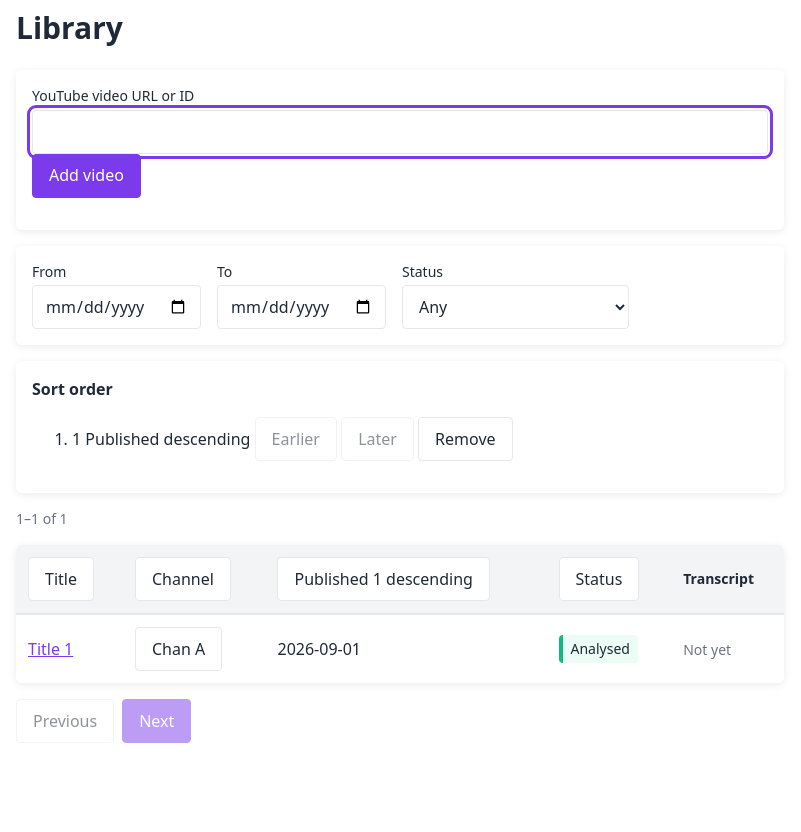
Scenario: single-video submission › shows safe feedback for a network failure and retains focus and input
Type "keep-me" into the field labelled "YouTube video URL or ID" at (400, 132), box [32,110,768,154]
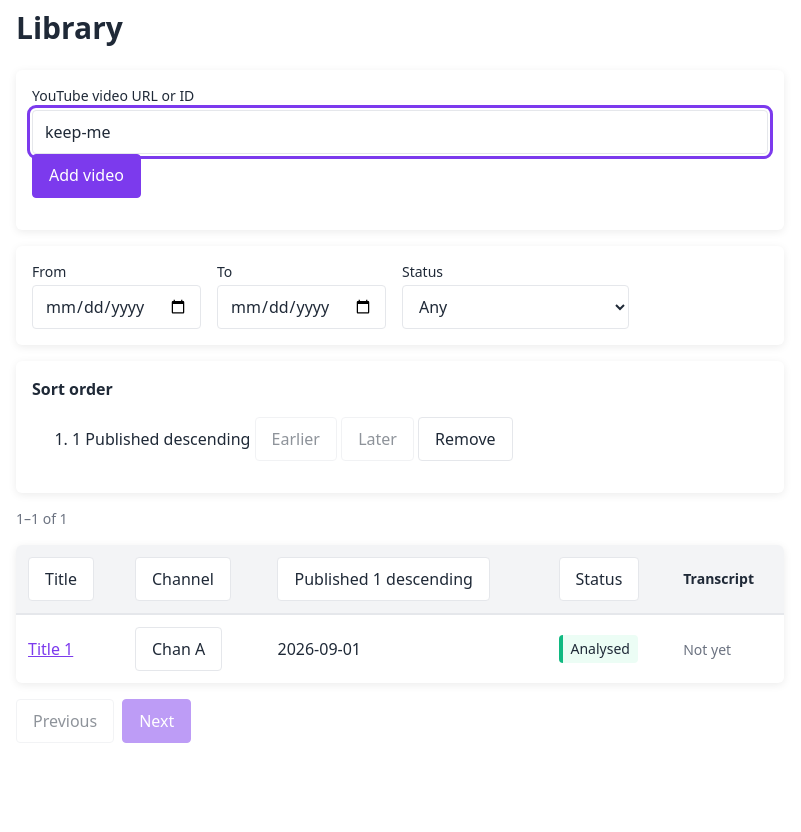
Submit the form "YouTube video URL or ID", box [16,70,784,230]
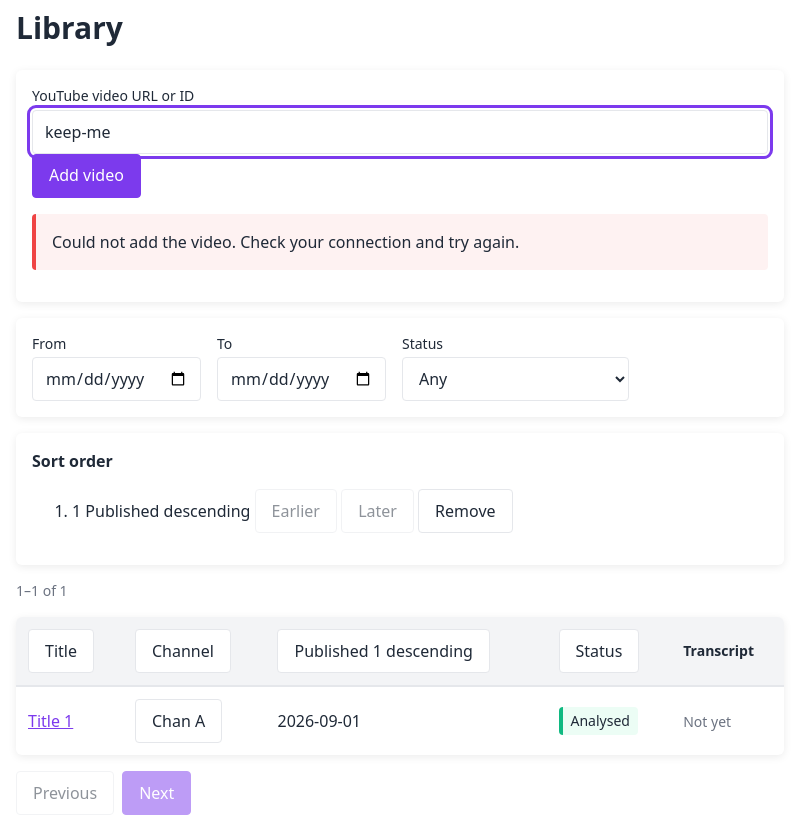
Expected: the message "Could not add the video. Check your connection and try again." is shown, [32,214,768,270]
